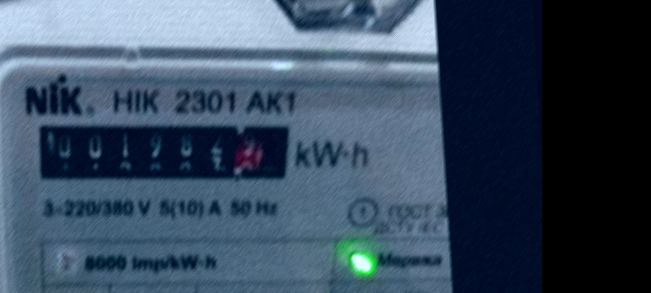0: (87, 131, 106, 161), (57, 130, 75, 159)
1: (119, 129, 133, 159)
2: (209, 126, 229, 156)
8: (179, 129, 197, 158)
9: (240, 130, 262, 159), (148, 130, 165, 160)
screen: (22, 95, 308, 209)
